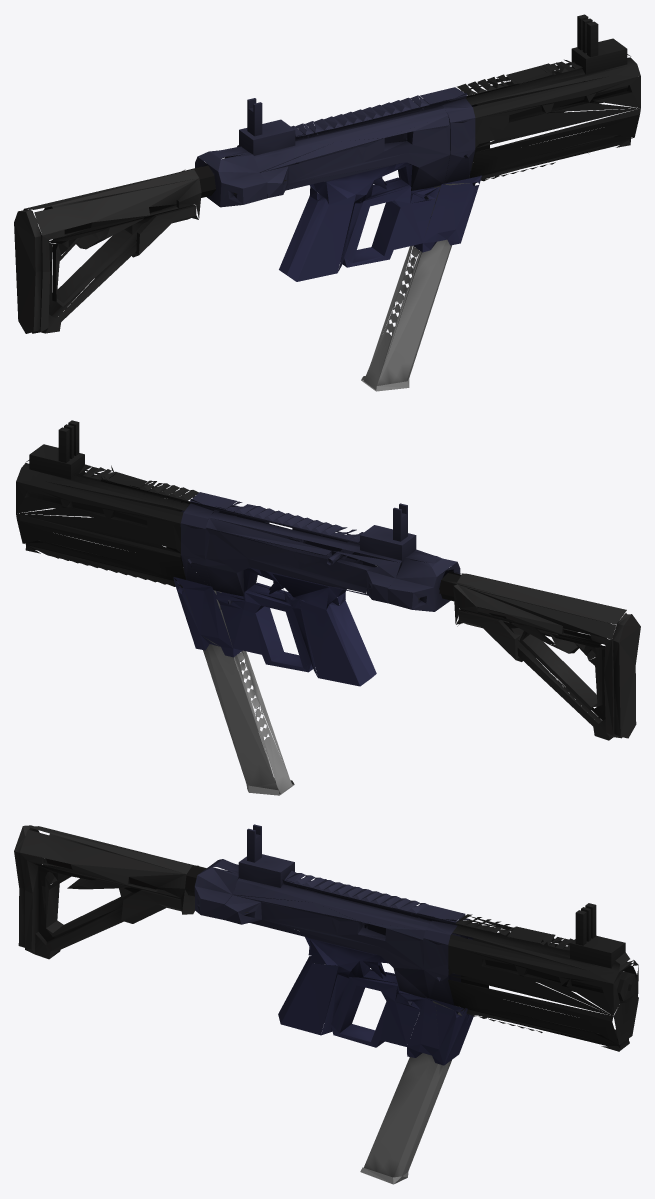
The model's file is x-p6-gseries.glb.
3 views of the same model, one above another, from view 1: azimuth 30°, elevation 25°; view 2: azimuth 150°, elevation 25°; view 3: azimuth 330°, elevation 25° (orthographic).
Parts seen in each view (by area): view 1: receiver, front, stock, grip, magazine; view 2: receiver, front, stock, grip, magazine; view 3: front, receiver, stock, grip, magazine.
Boxes of the visible parts, x1=… form: receiver: x1=195, y1=87, x2=475, y2=207; front: x1=457, y1=14, x2=640, y2=182; stock: x1=14, y1=165, x2=286, y2=333; grip: x1=279, y1=162, x2=481, y2=281; magazine: x1=361, y1=183, x2=469, y2=391; receiver: x1=180, y1=492, x2=460, y2=611; front: x1=16, y1=420, x2=198, y2=587; stock: x1=418, y1=571, x2=640, y2=740; grip: x1=173, y1=567, x2=376, y2=686; magazine: x1=184, y1=590, x2=294, y2=795; front: x1=448, y1=903, x2=638, y2=1051; receiver: x1=194, y1=824, x2=473, y2=1005; stock: x1=14, y1=825, x2=248, y2=959; grip: x1=278, y1=937, x2=473, y2=1065; magazine: x1=360, y1=1001, x2=461, y2=1184.
Size of the model in its own units: 0.5392 by 0.2667 by 0.0666.
